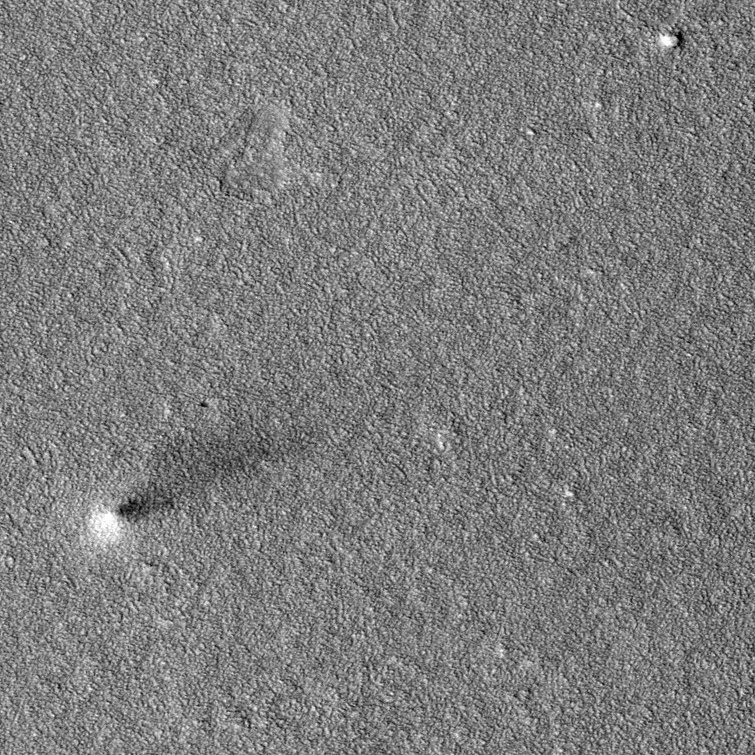dust_devil: (76, 420, 317, 555)
